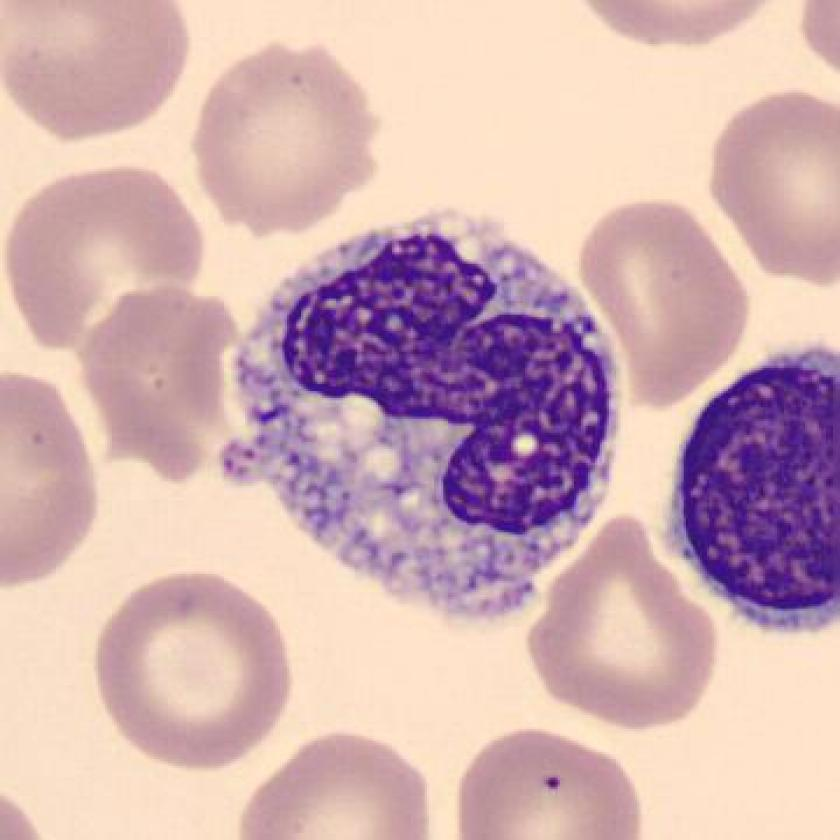monocyte: (213, 193, 650, 644)
